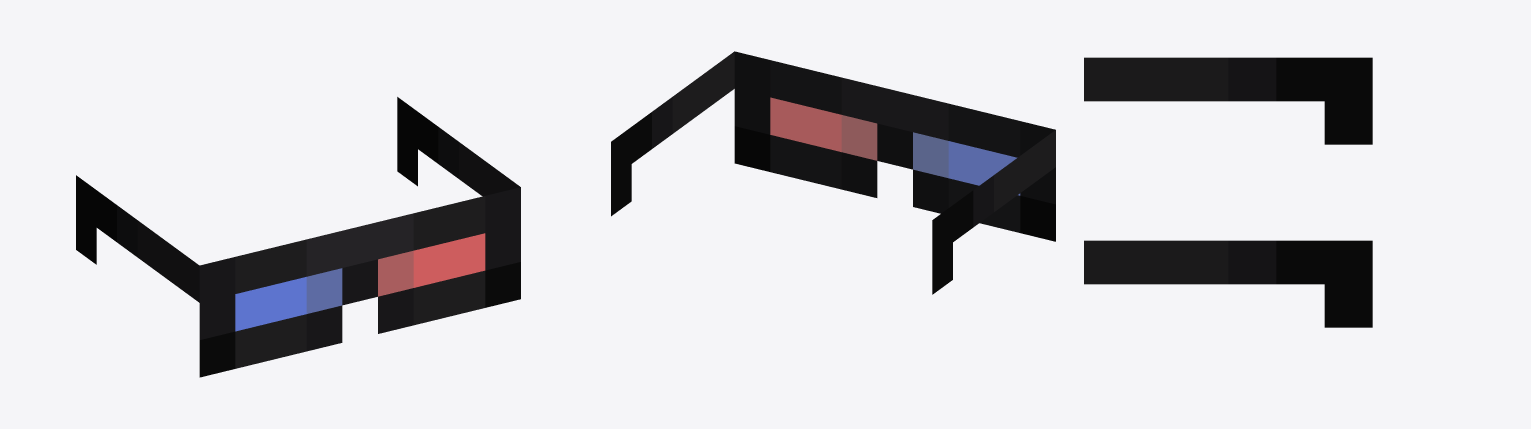
The model's file is sl_3d_glasses.glb.
3 views of the same model, side by side, from view 1: azimuth 30°, elevation 25°; view 2: azimuth 150°, elevation 25°; view 3: azimuth 270°, elevation 25° (orthographic). The views are drawn at different scales.
Visible parts, largest first — view 1: bb_3d_glasses; view 2: bb_3d_glasses; view 3: bb_3d_glasses.
Part boxes in pixels (<box>): bb_3d_glasses: <box>76,97,520,377</box>; bb_3d_glasses: <box>611,51,1055,294</box>; bb_3d_glasses: <box>1084,57,1372,327</box>.
Bounding box in the file's own units: 0.5625 × 0.3125 × 0.5625.
1 material, 1 textured.
